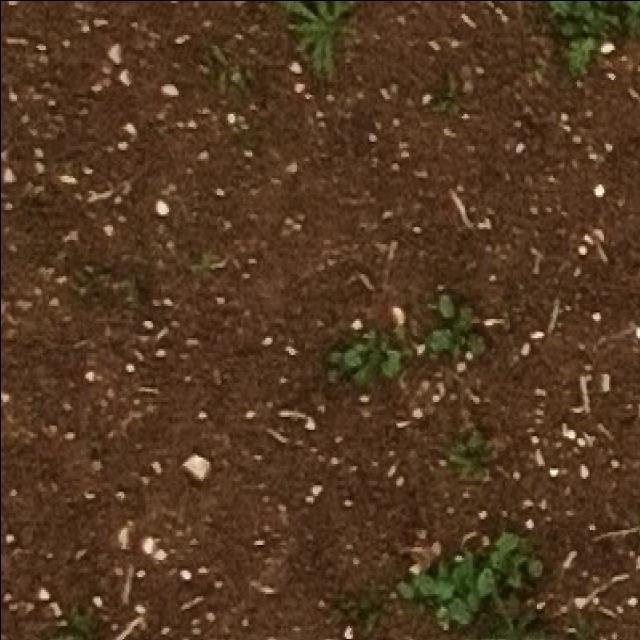cirse: (291, 0, 367, 84), (276, 3, 351, 82), (287, 1, 359, 80)
